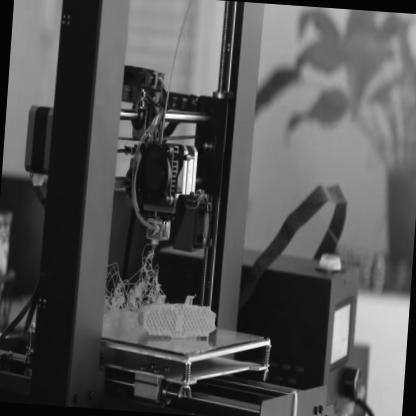fail: (110, 254, 159, 308)
